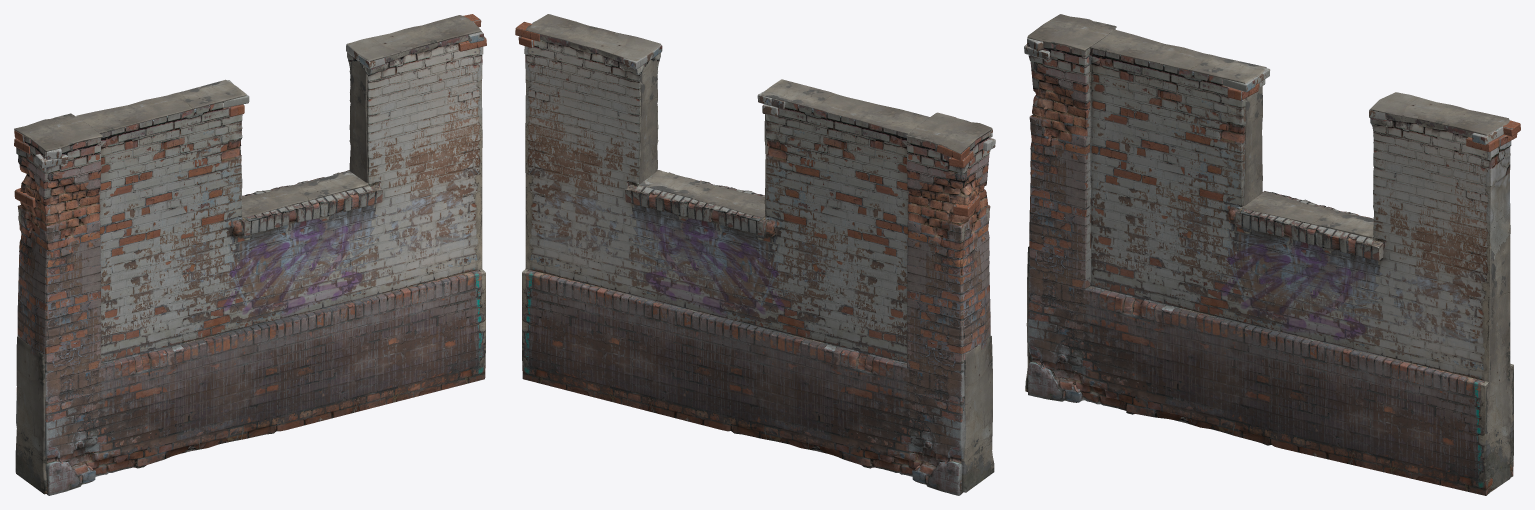
The model's file is sm_Wall_01_06.fbx.
3 views of the same model, side by side, from view 1: azimuth 30°, elevation 25°; view 2: azimuth 150°, elevation 25°; view 3: azimuth 330°, elevation 25° (orthographic). The views are drawn at different scales.
Visible parts, largest first — view 1: sm_Wall_01_06_LOD0; view 2: sm_Wall_01_06_LOD0; view 3: sm_Wall_01_06_LOD0.
Boxes of the visible parts, bbox=[...] form: sm_Wall_01_06_LOD0: bbox=[14, 14, 486, 495]; sm_Wall_01_06_LOD0: bbox=[515, 14, 995, 495]; sm_Wall_01_06_LOD0: bbox=[1024, 14, 1520, 495].
Size of the model in its own units: 58.8 by 440 by 327.
